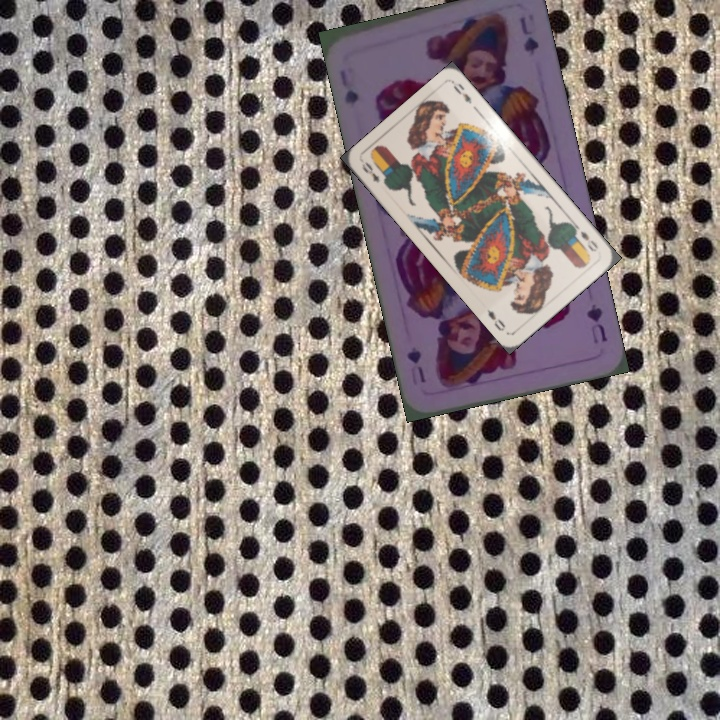EO: (571, 222, 601, 254), (358, 157, 382, 185)
GU: (582, 300, 611, 346), (335, 66, 361, 109)
